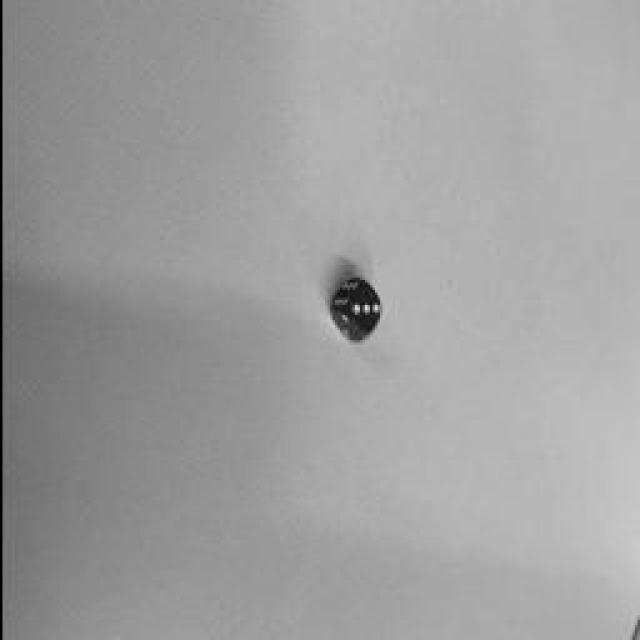dice_3: (348, 284, 378, 334)
